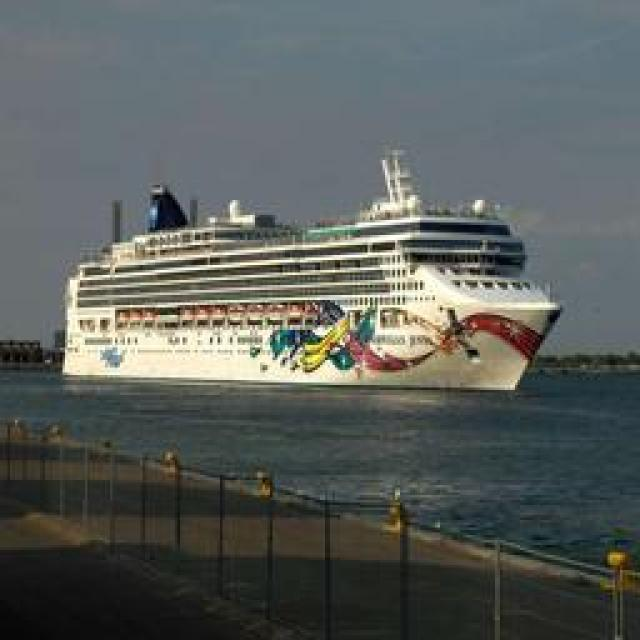ship2: (62, 152, 564, 393)
